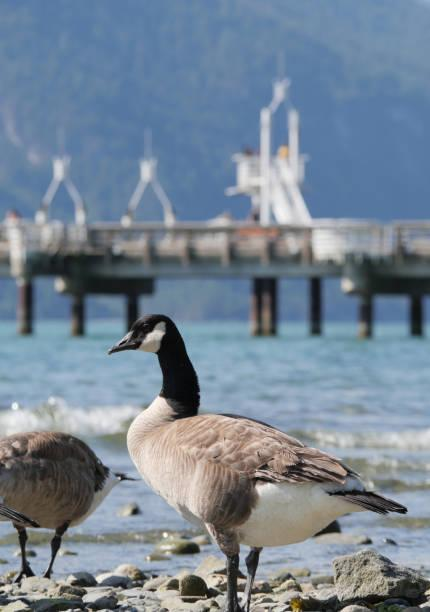Canadian-Goose: (107, 308, 405, 588), (0, 425, 116, 576)
